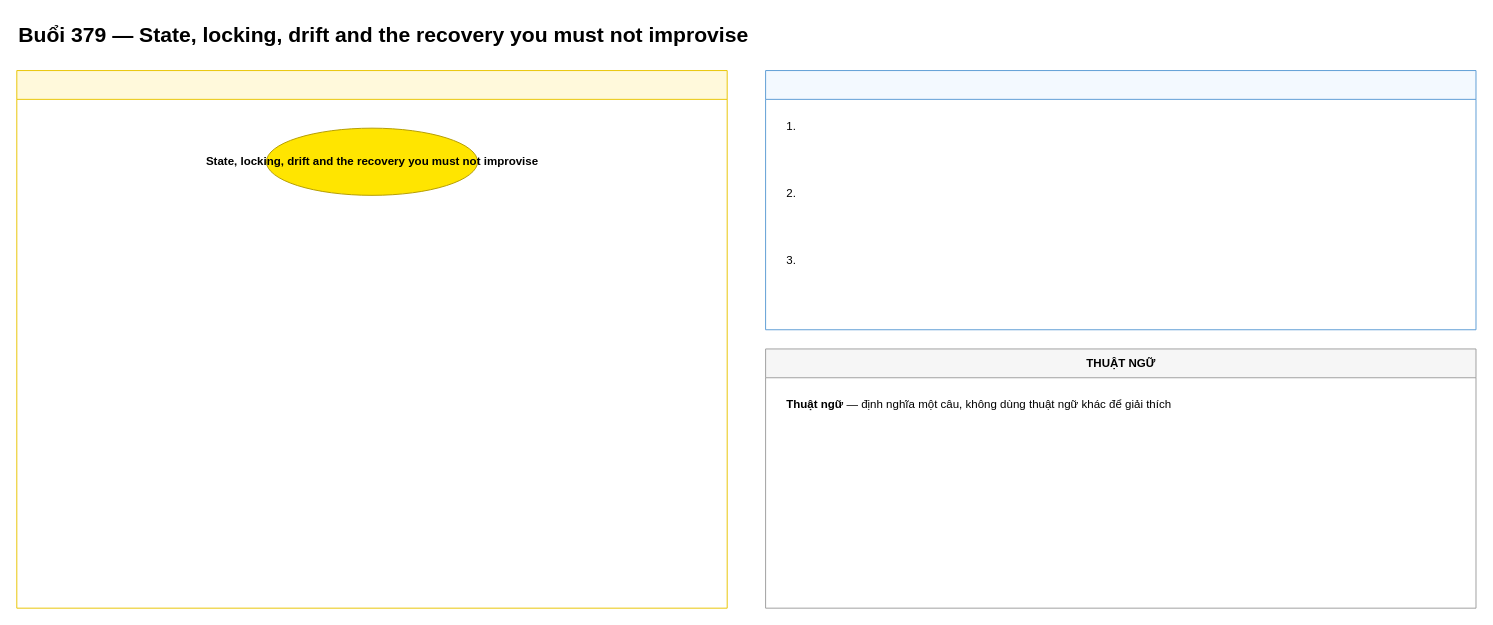
This 1493x625 diagram has some shape labels left out. The box of each missing label's shape, as (x1, y1, x2, y2) in pixels:
KEY TAKEAWAY — ba điều phải nhớ: (765, 70, 1476, 330)
MINDMAP: (16, 70, 727, 608)
